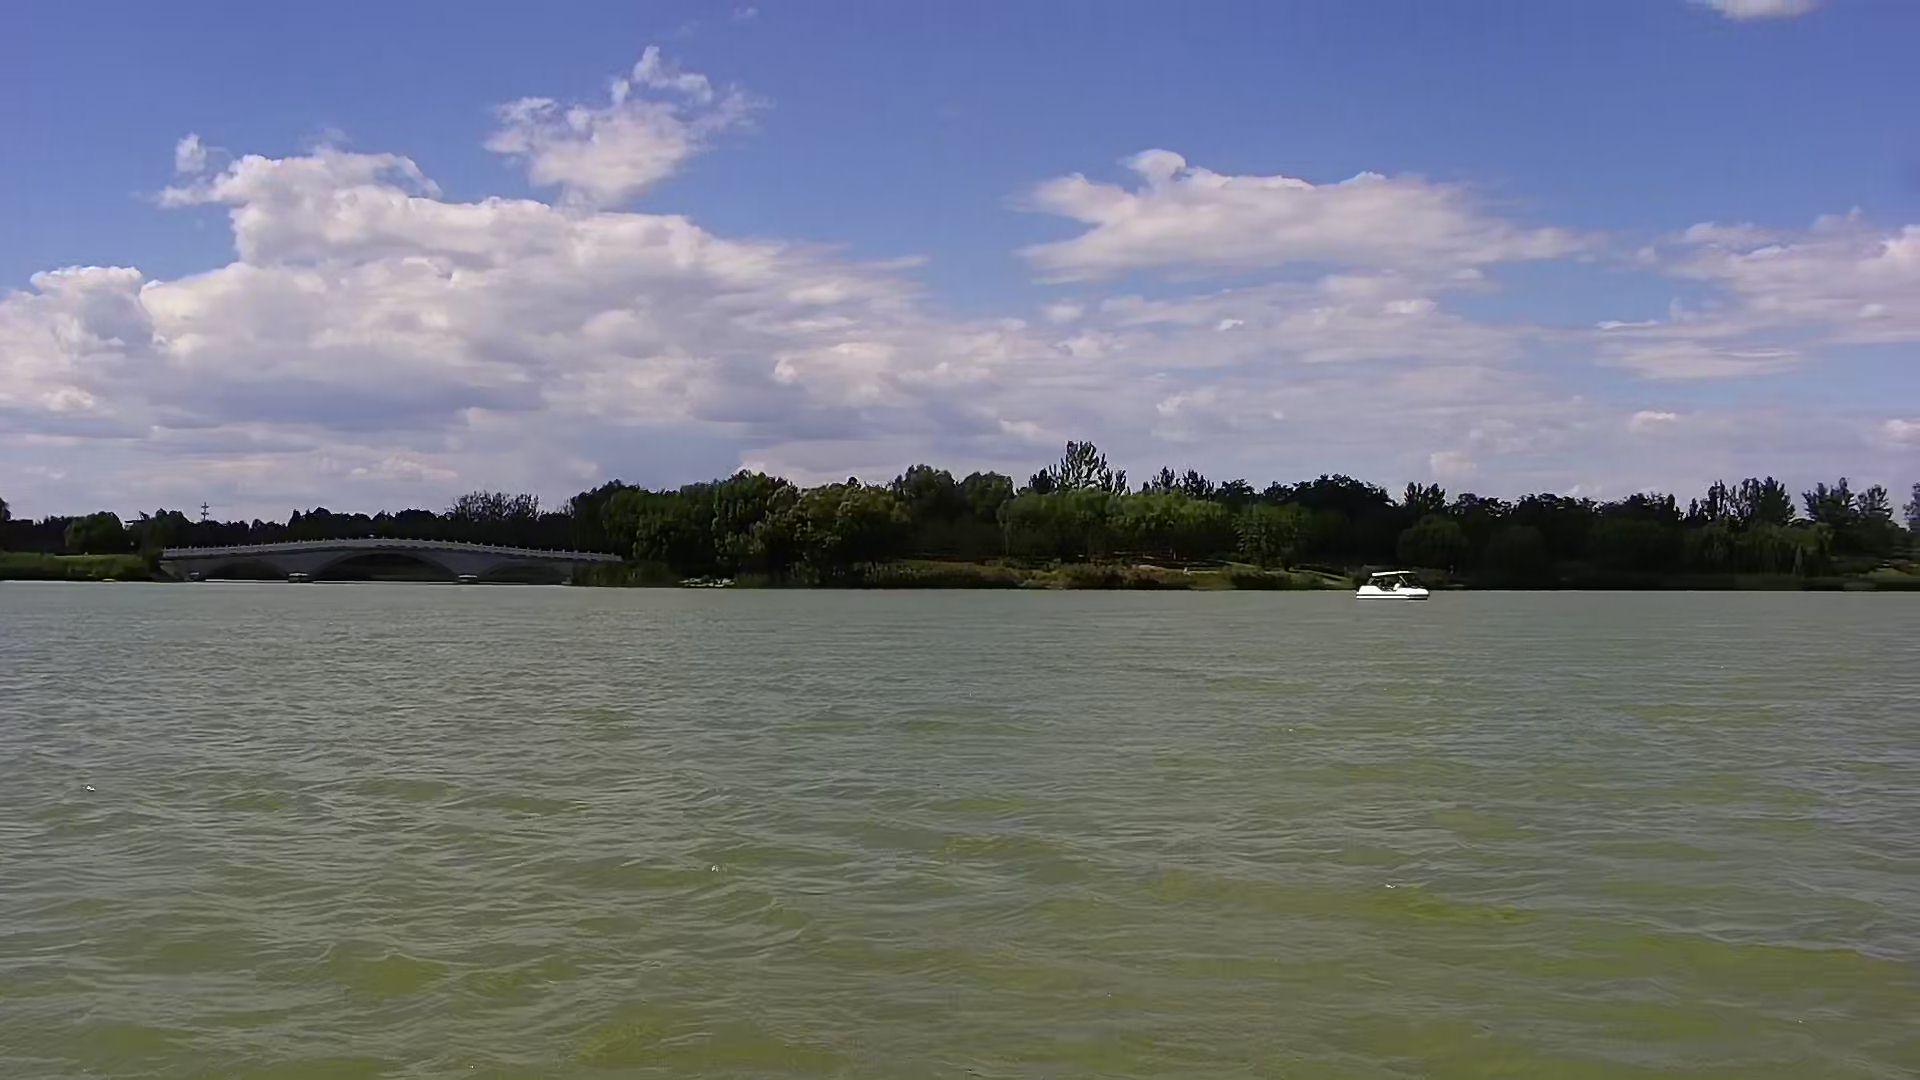boat: (1353, 564, 1439, 611)
bridge: (162, 537, 629, 585)
